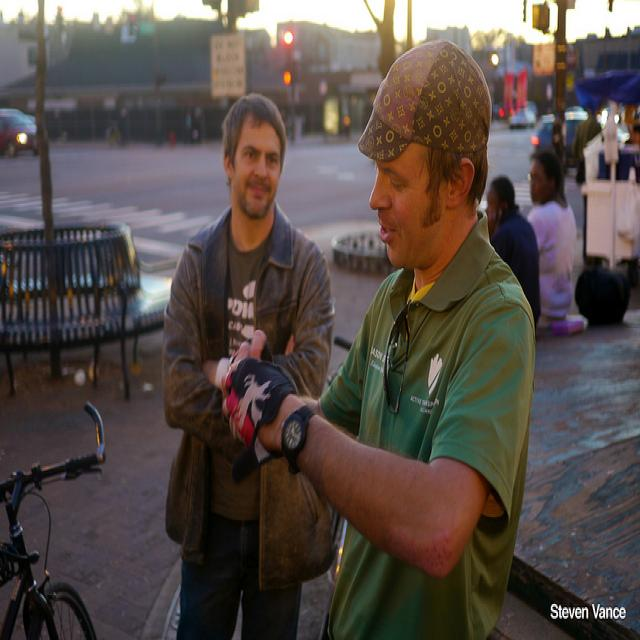Vehicle: (0, 107, 40, 157), (567, 106, 588, 165), (533, 118, 557, 158), (508, 107, 537, 128)
